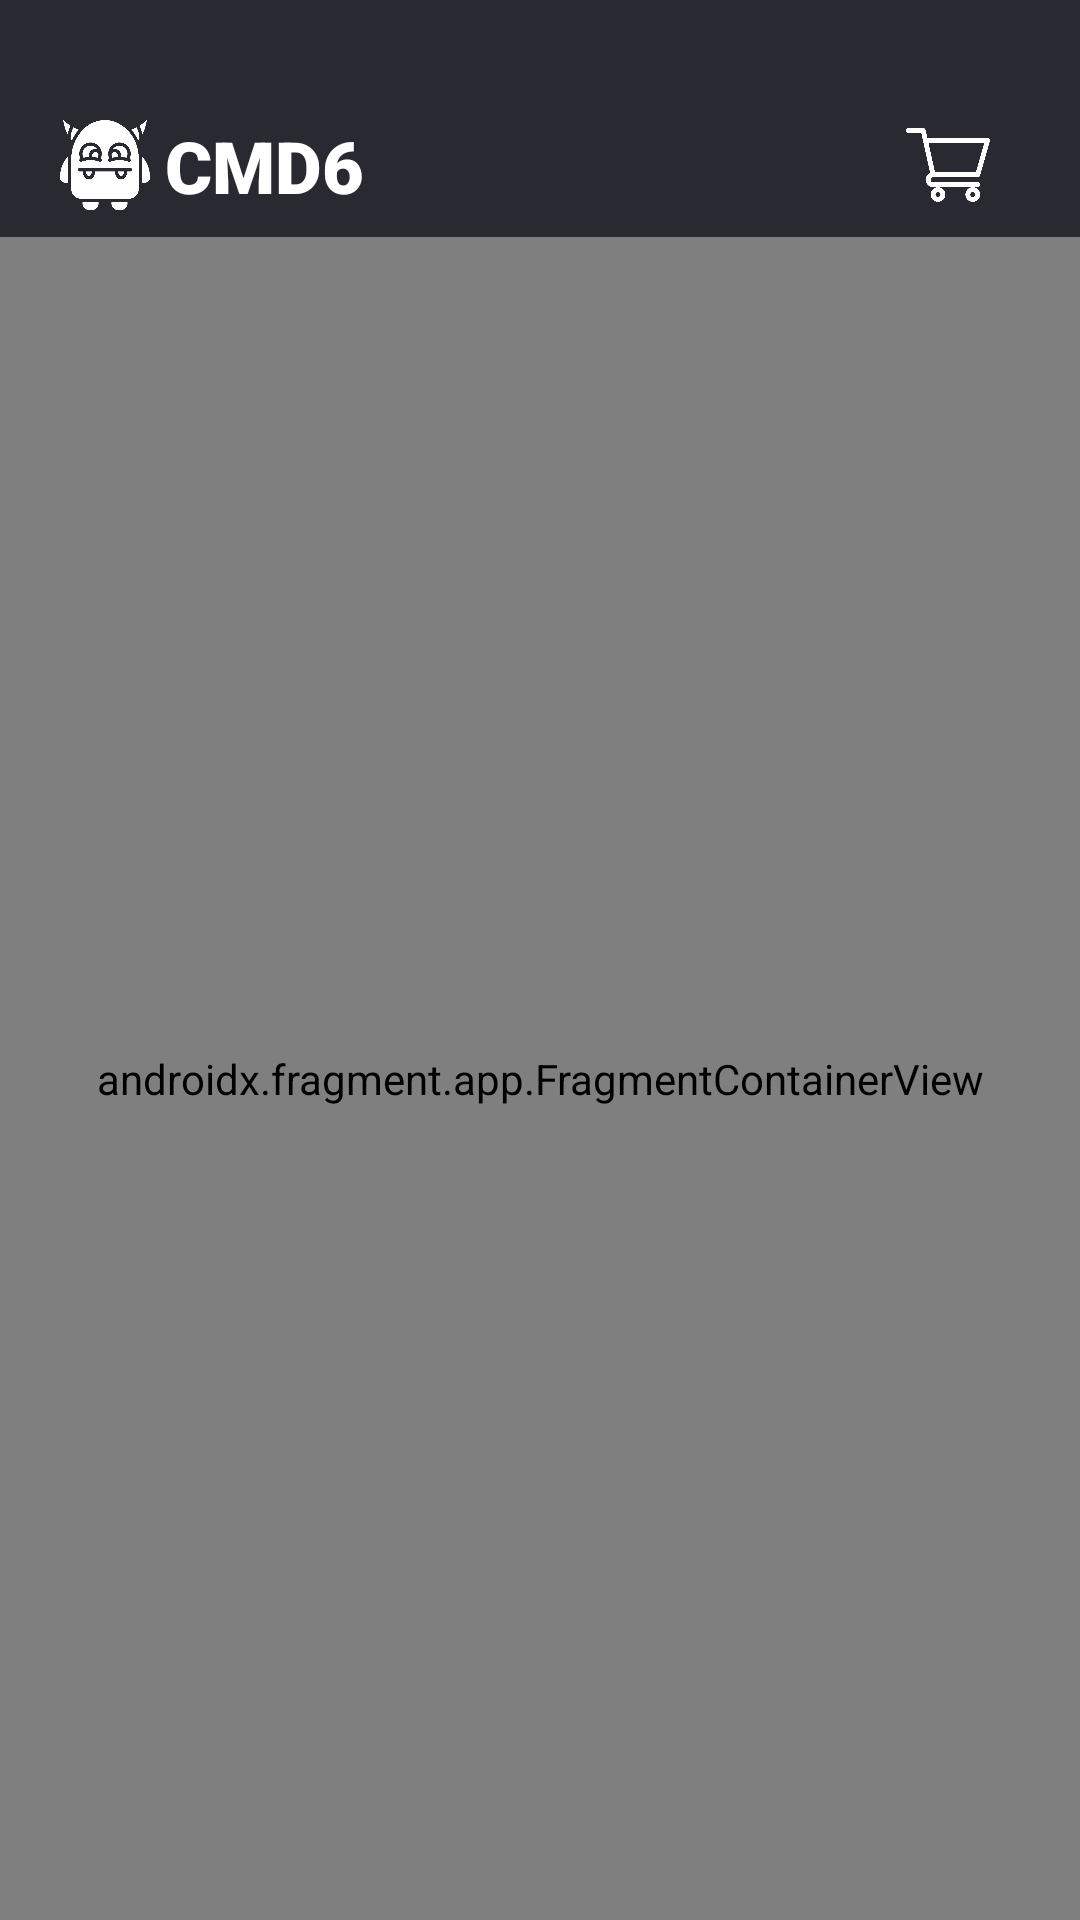

Icons on this 1080px×1920px Android screen, each with the point to tap as point (x, y):
cart inverted: point (948, 165)
monster: point (105, 165)
